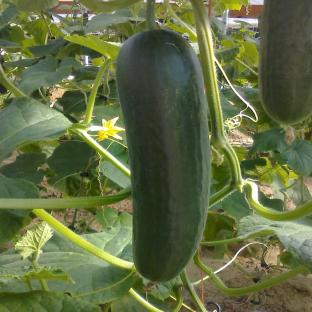Cucumber: (116, 30, 210, 282), (259, 0, 311, 125)
